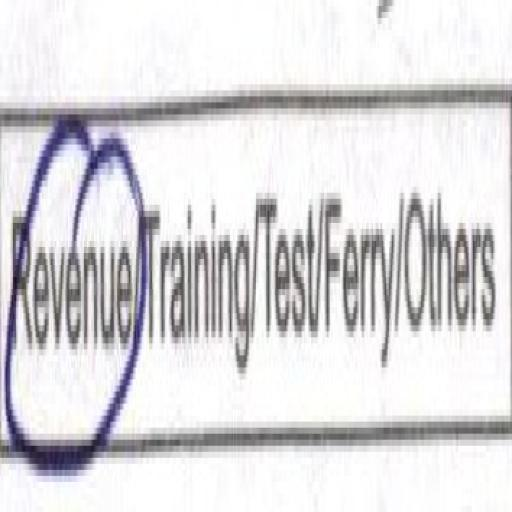check: (0, 82, 136, 498)
